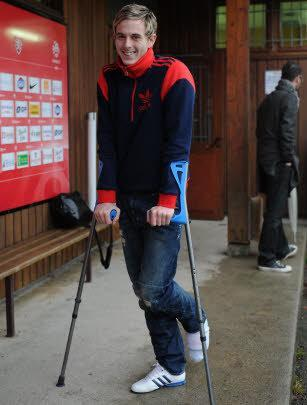crutches: (49, 0, 224, 405)
